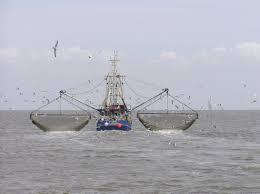fishing boat: (27, 47, 202, 133)
